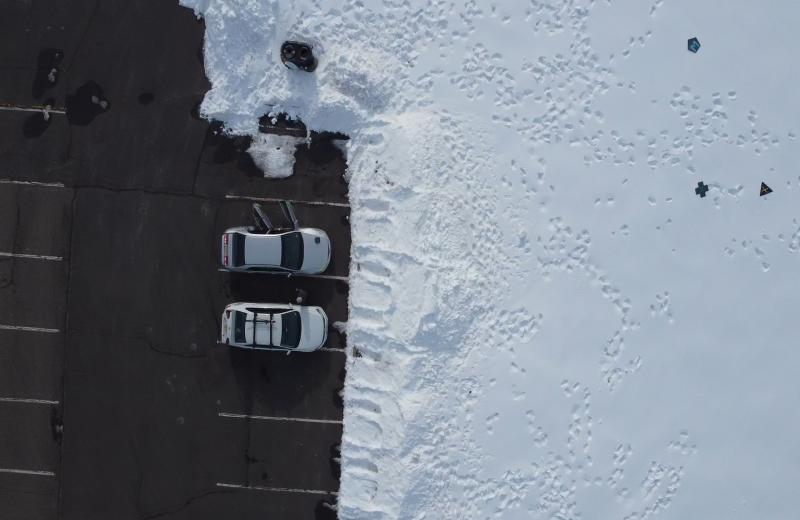Cross: (693, 180, 712, 199)
Pentagon: (685, 35, 701, 54)
Triangle: (758, 179, 774, 197)
